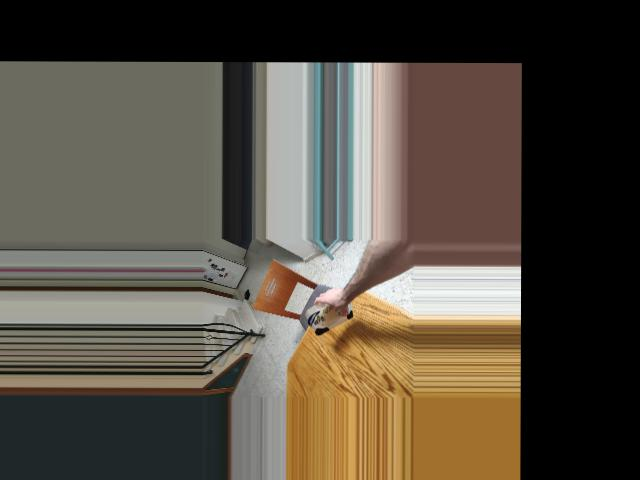cheese: (305, 288, 356, 335)
